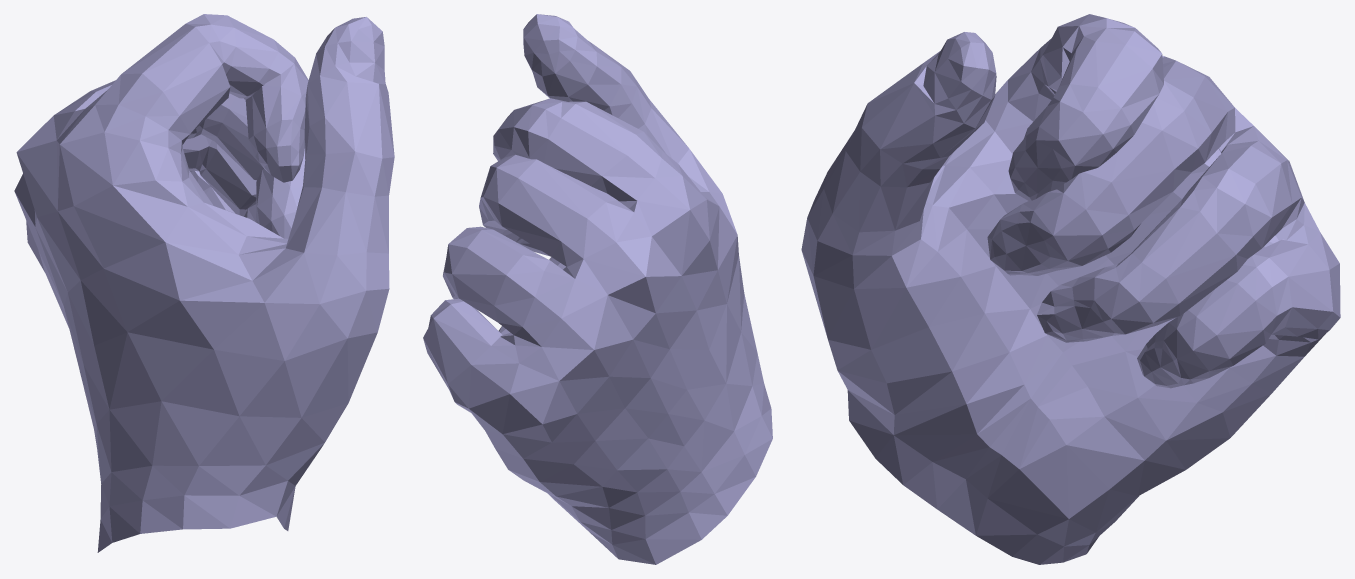
The model's file is frame_0019_source_000019_hand.glb.
3 views of the same model, side by side, from view 1: azimuth 30°, elevation 25°; view 2: azimuth 150°, elevation 25°; view 3: azimuth 270°, elevation 25° (orthographic). The views are drawn at different scales.
Visible parts, largest first — view 1: world; view 2: world; view 3: world.
Part boxes in pixels (x1,y1,x2,y2): world: (14,14,394,552); world: (423,14,772,564); world: (801,14,1340,564).
Bounding box in the file's own units: 0.0618 × 0.1209 × 0.1003.
